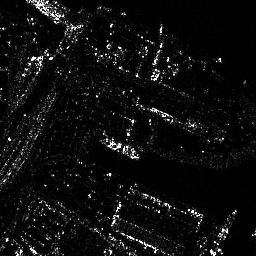ship: (211, 208, 239, 256), (99, 137, 142, 161)
